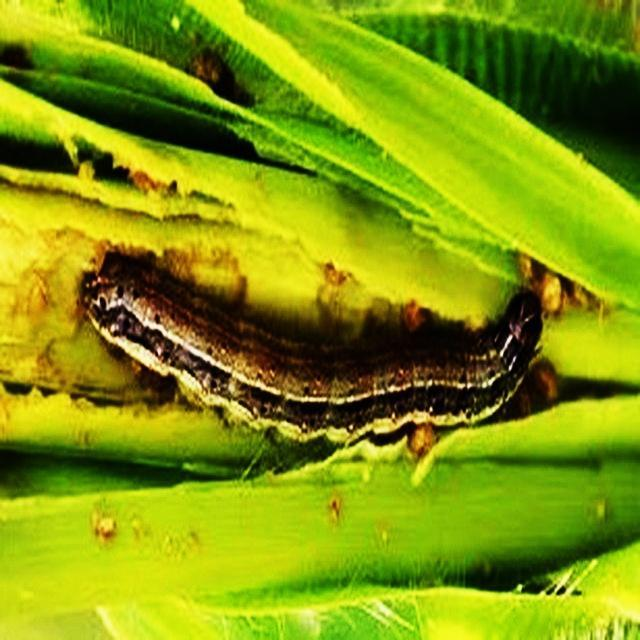Plaga: (85, 271, 548, 444)
